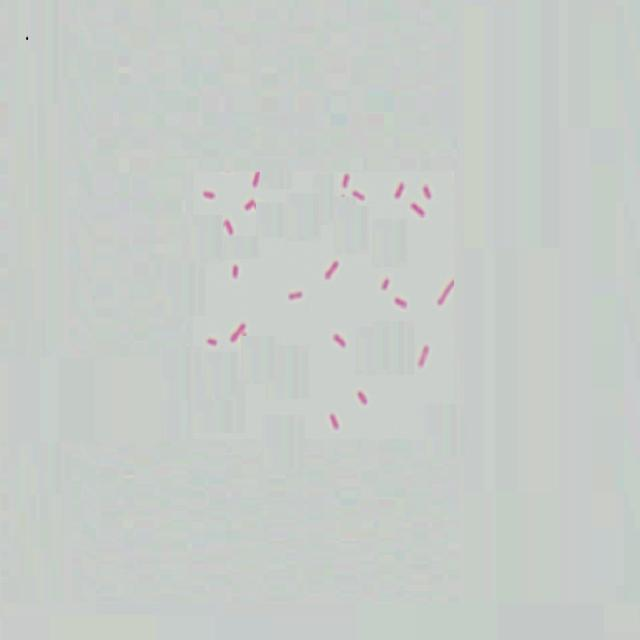E-coli: (417, 342, 433, 371), (202, 331, 223, 353), (439, 280, 457, 305), (229, 322, 247, 347), (322, 259, 340, 283), (327, 408, 342, 434), (221, 217, 237, 241), (249, 167, 263, 193), (408, 199, 424, 221), (226, 261, 241, 284), (355, 389, 369, 411), (350, 186, 366, 205), (392, 181, 405, 204), (391, 295, 408, 312), (242, 197, 258, 215), (331, 330, 346, 349), (419, 182, 434, 200), (203, 187, 216, 204), (285, 289, 303, 301), (380, 274, 391, 293), (340, 170, 351, 189)
